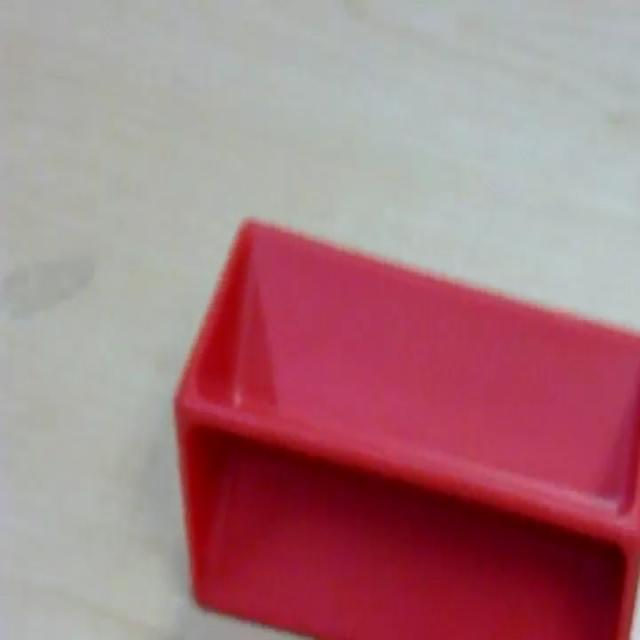red_block: (172, 213, 638, 638)
